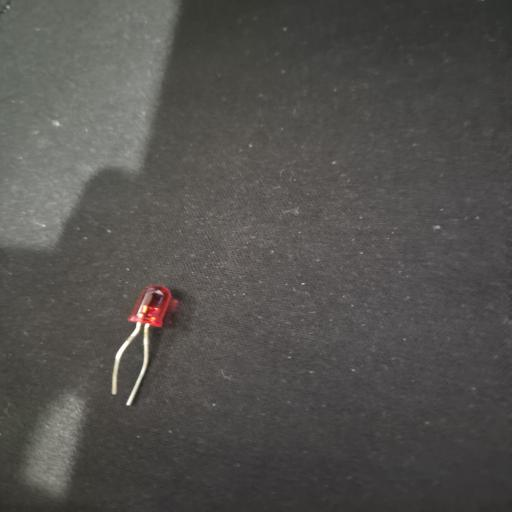led-diode: (126, 285, 172, 406)
